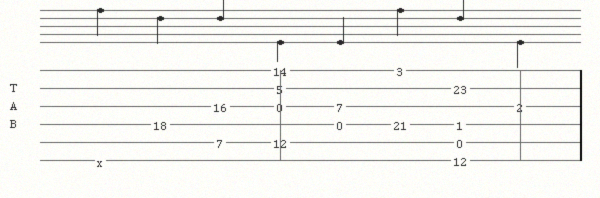0: (276, 100, 287, 112), (336, 118, 347, 130), (456, 136, 467, 148)
1: (456, 118, 467, 130)
12: (273, 136, 291, 148), (453, 154, 471, 166)
14: (273, 64, 291, 76)
16: (213, 100, 231, 112)
18: (153, 118, 171, 130)
2: (516, 100, 527, 112)
21: (393, 118, 411, 130)
23: (453, 82, 471, 94)
3: (396, 64, 407, 76)
5: (276, 82, 287, 94)
7: (216, 136, 227, 148), (336, 100, 347, 112)
x: (97, 155, 107, 165)
